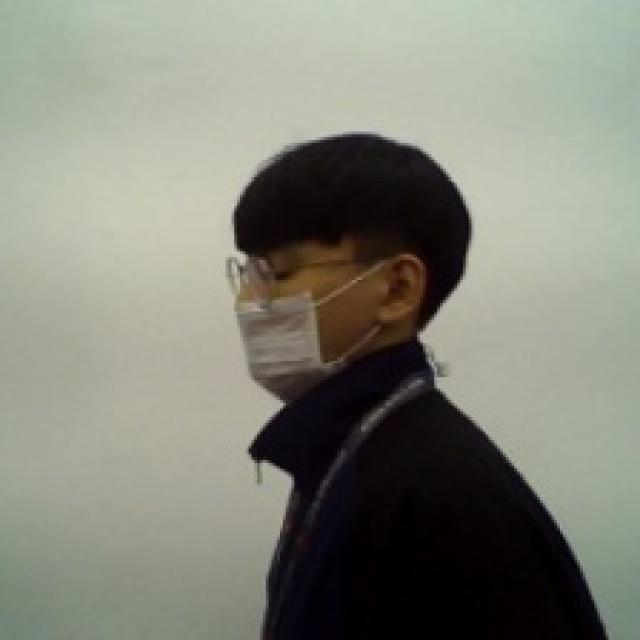mask: (228, 260, 423, 405)
no_gloves: (222, 123, 478, 290)
